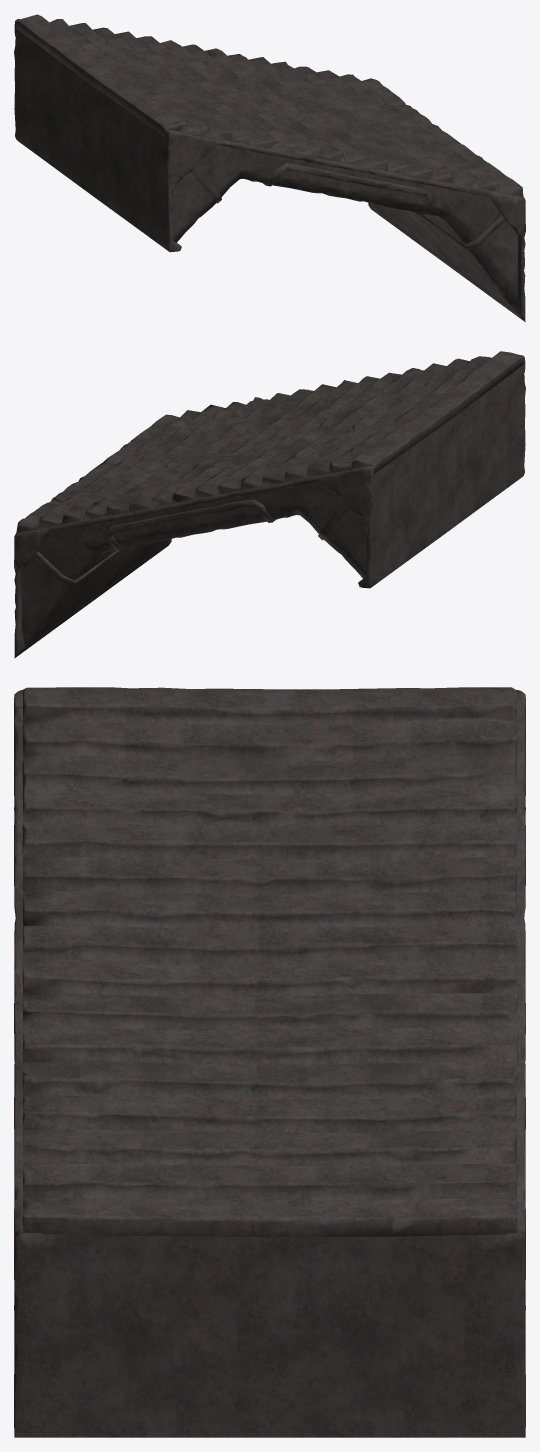
File: SM_Stairs.fbx
3 renders of one model, top to bottom at view 1: azimuth 30°, elevation 25°; view 2: azimuth 150°, elevation 25°; view 3: azimuth 270°, elevation 25°, orthographic. The views are drawn at different scales.
Parts seen in each view (by area): view 1: SM_Stairs_LOD0; view 2: SM_Stairs_LOD0; view 3: SM_Stairs_LOD0.
Part boxes in pixels (left/top/right/bottom): SM_Stairs_LOD0: left=14, top=14, right=525, bottom=321; SM_Stairs_LOD0: left=14, top=351, right=525, bottom=658; SM_Stairs_LOD0: left=14, top=687, right=525, bottom=1437.
Size of the model in its own units: 603 by 450 by 449.
4 materials, 4 textured.
